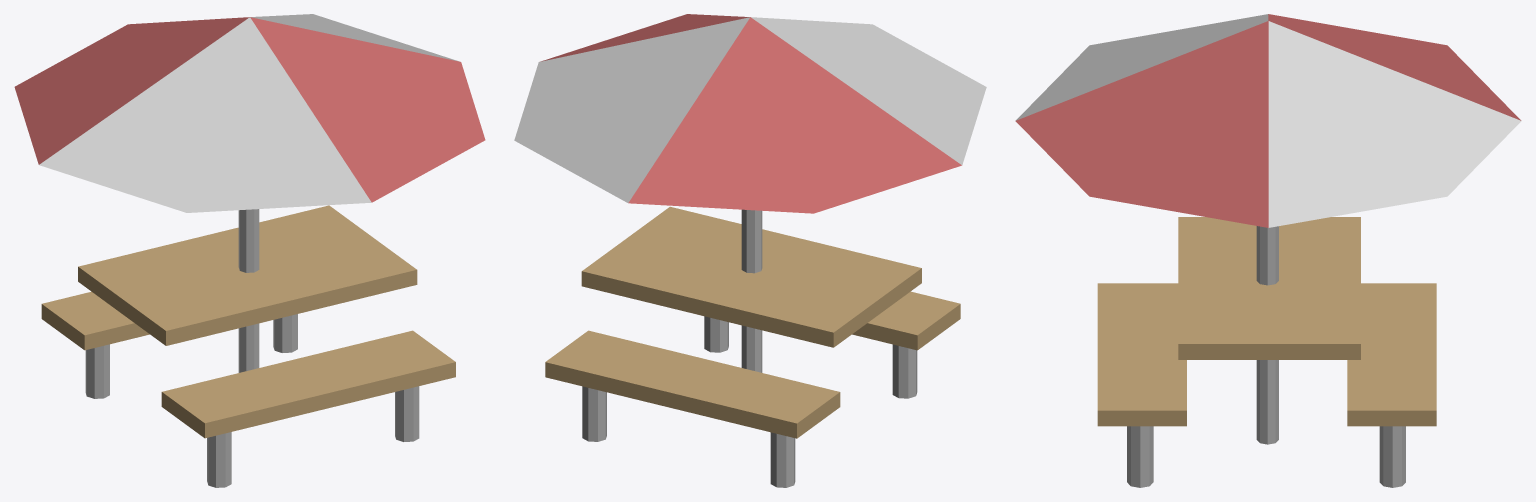
Rendered from Prop_Table&Umbrella_Mod_01.fbx.
3 views of the same model, side by side, from view 1: azimuth 30°, elevation 25°; view 2: azimuth 150°, elevation 25°; view 3: azimuth 270°, elevation 25° (orthographic). The views are drawn at different scales.
Visible parts, largest first — view 1: Table, Chairs; view 2: Table, Chairs; view 3: Table, Chairs.
Boxes of the visible parts, x1,y1,x2,y2 form: Table: (14, 14, 485, 372); Chairs: (41, 291, 455, 487); Table: (514, 14, 986, 372); Chairs: (545, 291, 960, 487); Table: (1015, 14, 1521, 444); Chairs: (1097, 283, 1436, 487).
Size of the model in its own units: 3.03 by 2.77 by 3.03.
